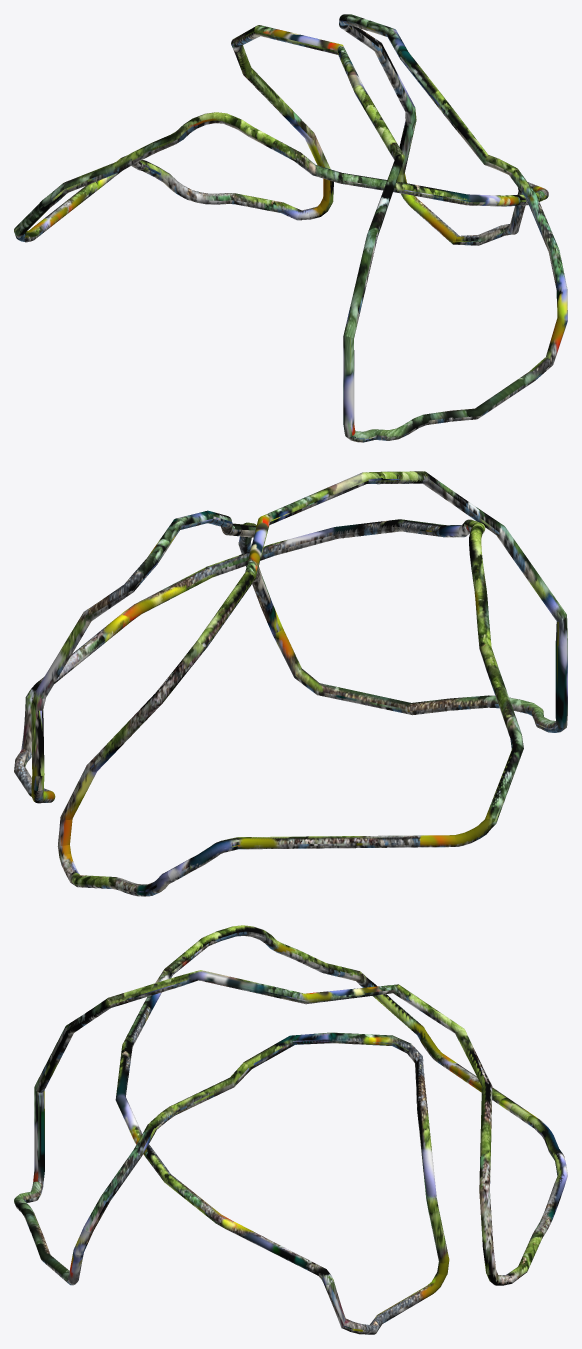
The model's file is nest.glb.
3 renders of one model, top to bottom at view 1: azimuth 30°, elevation 25°; view 2: azimuth 150°, elevation 25°; view 3: azimuth 270°, elevation 25°, orthographic. The views are drawn at different scales.
Visible parts, largest first — view 1: Cylinder; view 2: Cylinder; view 3: Cylinder.
Boxes of the visible parts, bbox=[...] form: Cylinder: bbox=[14, 14, 567, 442]; Cylinder: bbox=[14, 471, 567, 896]; Cylinder: bbox=[14, 925, 567, 1334].
Bounding box in the file's own units: 15.58 × 9.03 × 16.51.
Materials: 1 (1 with a texture image).
